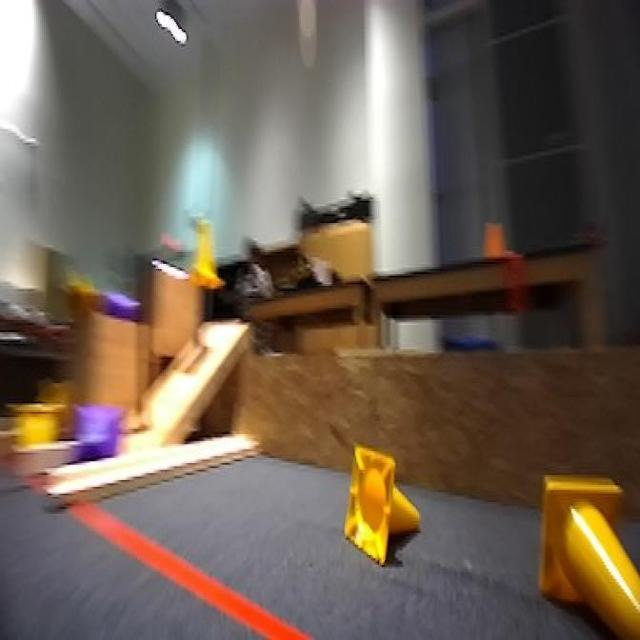frc_cone: (532, 478, 640, 640), (342, 448, 408, 572), (180, 206, 231, 301), (15, 402, 66, 458)
frc_cube: (74, 404, 117, 462), (102, 289, 139, 320)
